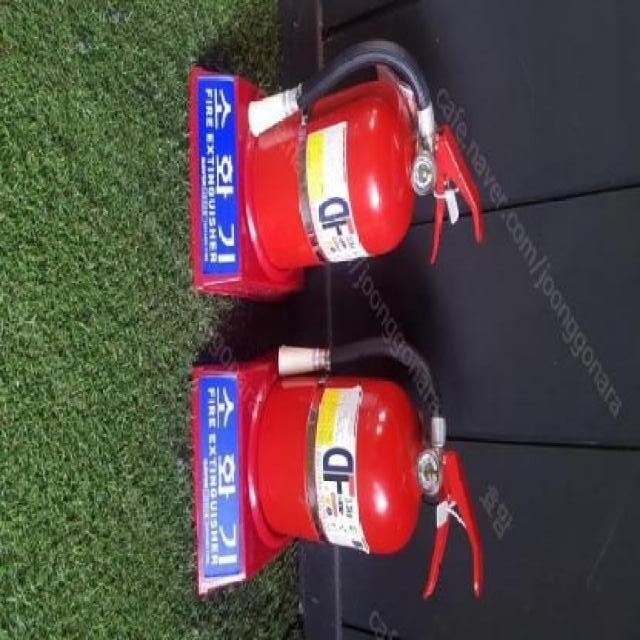fire extinguisher: (256, 334, 482, 600), (248, 39, 484, 270)
